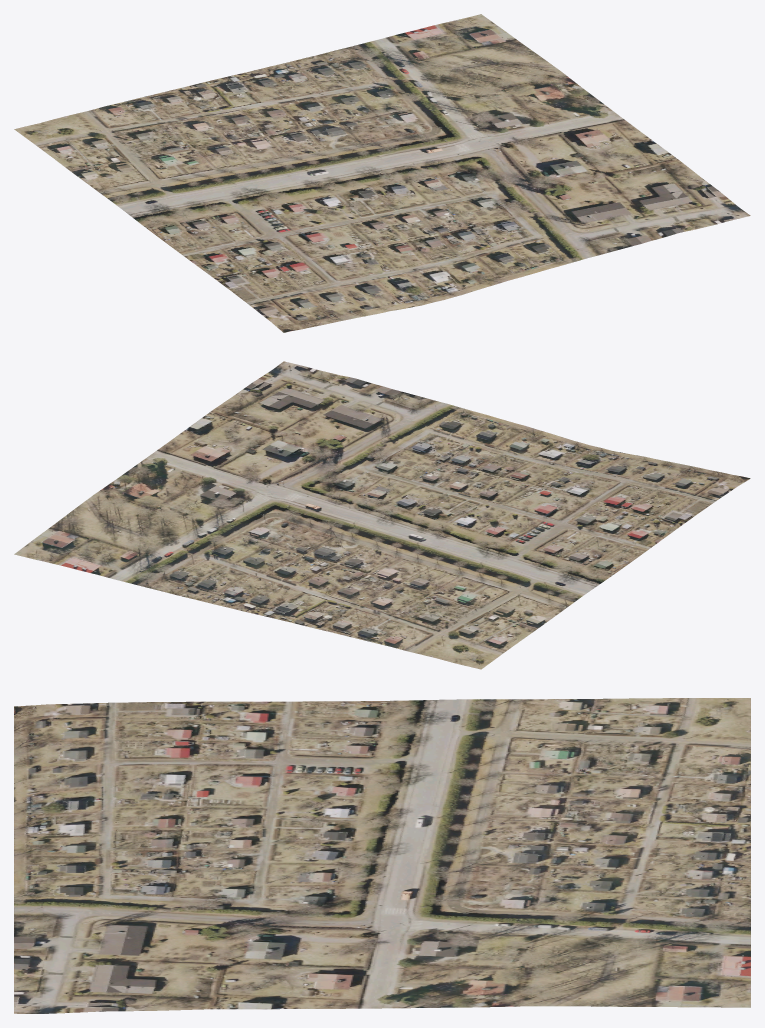
The model's file is CM_Terrain_24490049_6818565.fbx.
3 views of the same model, one above another, from view 1: azimuth 30°, elevation 25°; view 2: azimuth 150°, elevation 25°; view 3: azimuth 270°, elevation 25° (orthographic). The views are drawn at different scales.
Visible parts, largest first — view 1: CM_Terrain_24490049_6818565_LOD0; view 2: CM_Terrain_24490049_6818565_LOD0; view 3: CM_Terrain_24490049_6818565_LOD0.
Part boxes in pixels (x1,y1,x2,y2): CM_Terrain_24490049_6818565_LOD0: (14,14,750,332); CM_Terrain_24490049_6818565_LOD0: (14,361,750,669); CM_Terrain_24490049_6818565_LOD0: (14,698,750,1013).
Size of what is drawn, in the model's own units: 205 by 6.25 by 205.
